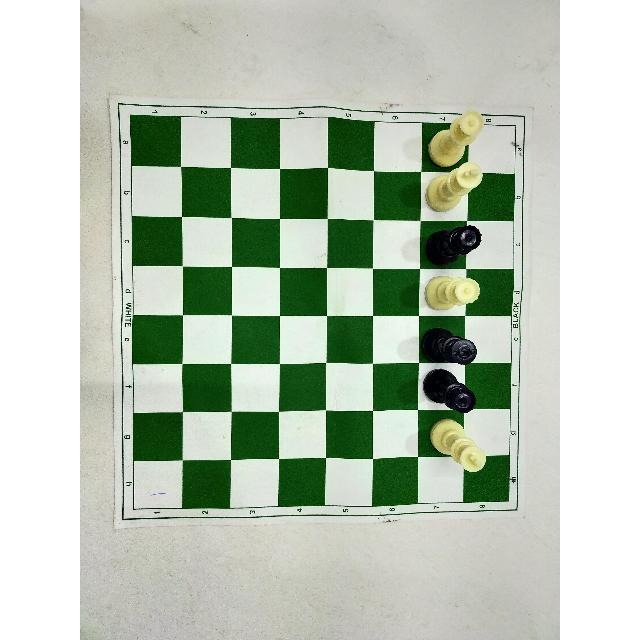black-king: (419, 324, 479, 368)
black-queen: (419, 365, 480, 417), (422, 223, 484, 269)
white-king: (426, 415, 490, 477), (422, 159, 485, 214)
white-queen: (424, 106, 486, 170), (421, 271, 484, 315)
